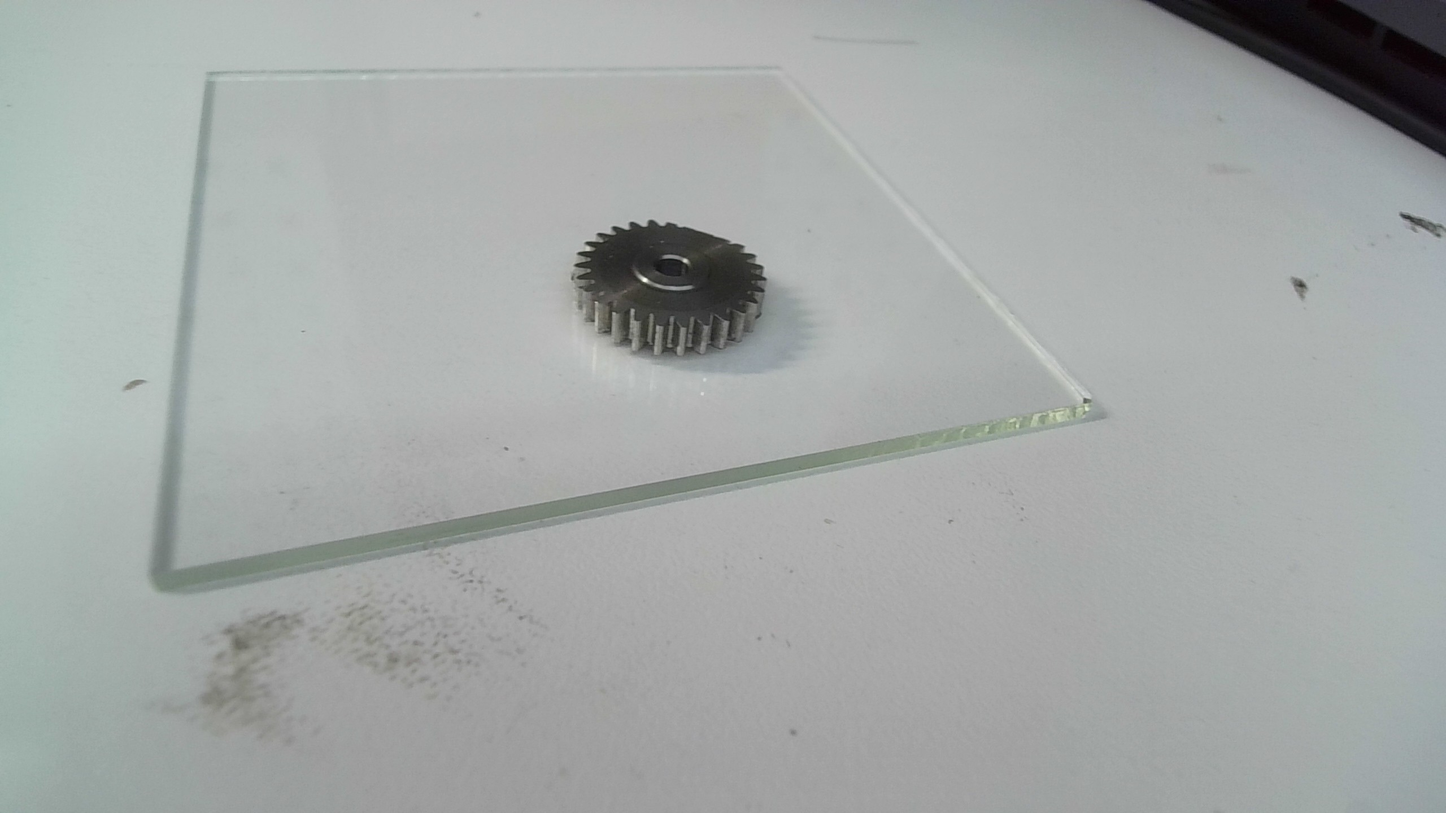gear: (567, 217, 768, 357)
